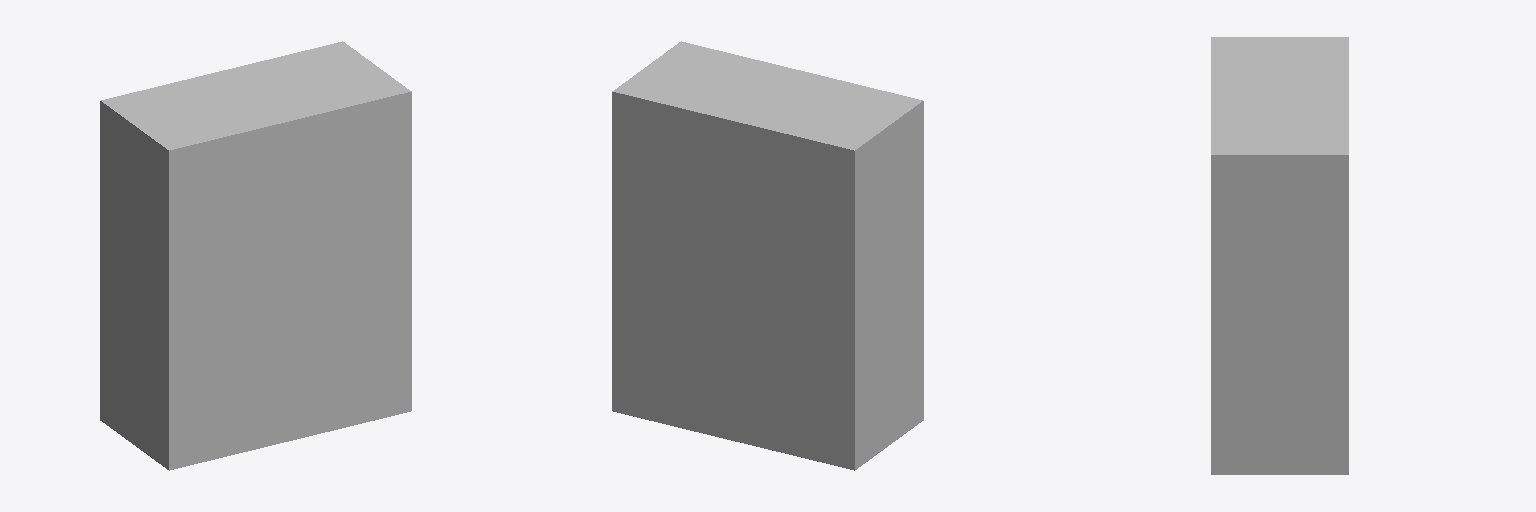
File: sCube4.obj
3 views of the same model, side by side, from view 1: azimuth 30°, elevation 25°; view 2: azimuth 150°, elevation 25°; view 3: azimuth 270°, elevation 25° (orthographic).
Parts seen in each view (by area): view 1: OutsideFacade_35; view 2: OutsideFacade_35; view 3: OutsideFacade_35.
Part boxes in pixels (x1,y1,x2,y2): OutsideFacade_35: (100,41,411,470); OutsideFacade_35: (612,41,923,470); OutsideFacade_35: (1211,37,1348,474).
Bounding box in the file's own units: 5.74 × 7.24 × 2.81.